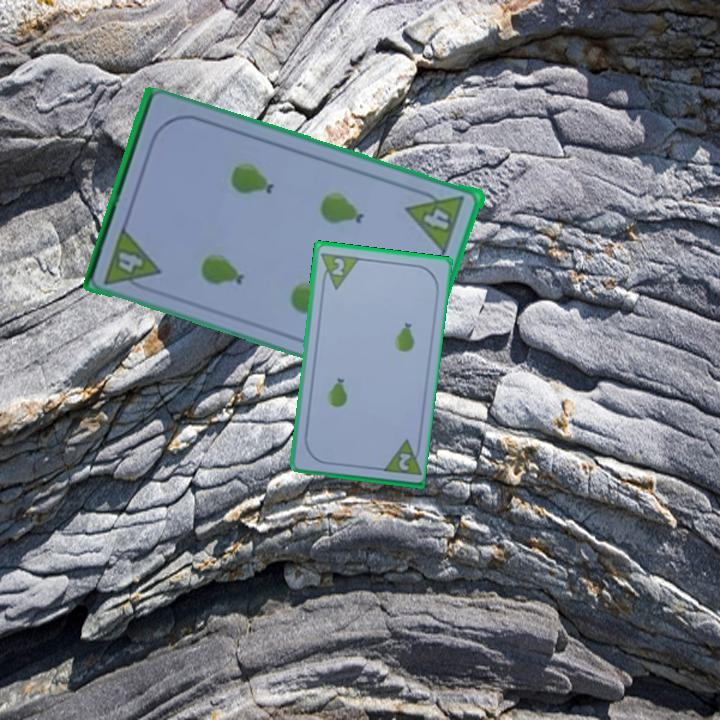2p: (328, 254, 347, 279), (395, 449, 413, 473)
4p: (403, 183, 469, 255), (101, 224, 165, 296)
